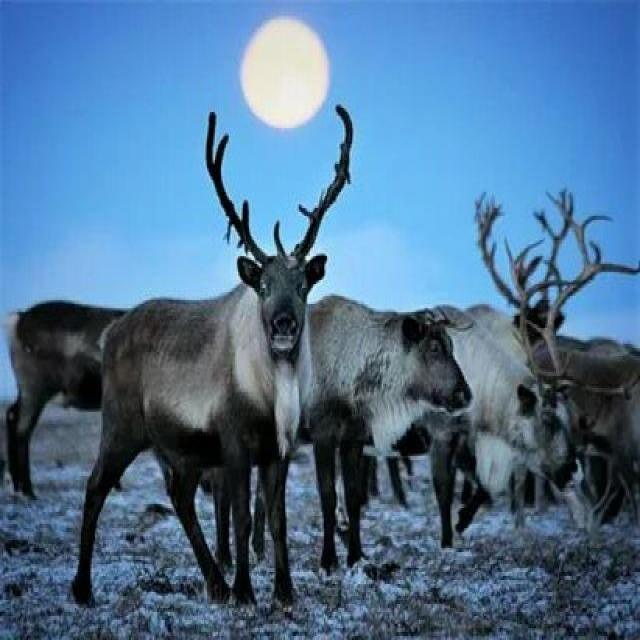deer: (74, 113, 371, 612), (338, 236, 578, 513), (256, 252, 458, 531)
